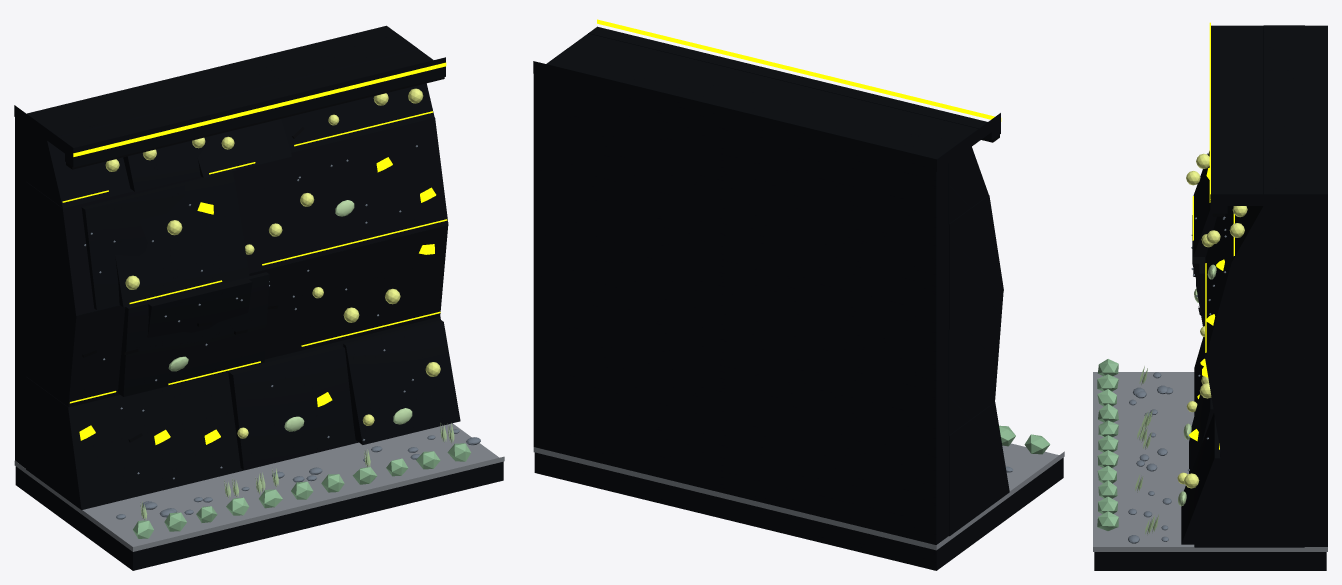
Rendered from tt_plinth_skirt_terrace_footed.glb.
3 views of the same model, side by side, from view 1: azimuth 30°, elevation 25°; view 2: azimuth 150°, elevation 25°; view 3: azimuth 270°, elevation 25° (orthographic). The views are drawn at different scales.
Visible parts, largest first — view 1: Course2_Facets, Course0_Facets, Course1_Facets, Course3_Facets, Cap_Course, Base_Mat, Footing, Skirt_Core, Moss_Edge, Tennis_Ball_Holds, Seam_Tape, Cap_Court_Line (+5 smaller); view 2: Skirt_Core, Cap_Course, Footing, Course3_Facets, Course0_Facets, Course1_Facets, Course2_Facets, Base_Mat, Cap_Court_Line; view 3: Cap_Course, Base_Mat, Course0_Facets, Course2_Facets, Course3_Facets, Course1_Facets, Skirt_Core, Footing, Moss_Edge, Tennis_Ball_Holds, River_Stones, Grass_Tufts (+4 smaller).
Part boxes in pixels (left/top/right/bottom): Course2_Facets: left=26, top=117, right=448, bottom=315; Course0_Facets: left=26, top=316, right=460, bottom=510; Course1_Facets: left=26, top=225, right=448, bottom=407; Course3_Facets: left=26, top=34, right=434, bottom=208; Cap_Course: left=14, top=25, right=445, bottom=167; Base_Mat: left=14, top=423, right=504, bottom=551; Footing: left=15, top=461, right=503, bottom=570; Skirt_Core: left=15, top=117, right=25, bottom=468; Moss_Edge: left=133, top=443, right=471, bottom=538; Tennis_Ball_Holds: left=105, top=88, right=440, bottom=438; Seam_Tape: left=62, top=111, right=447, bottom=403; Cap_Court_Line: left=73, top=62, right=446, bottom=156; Skirt_Core: left=533, top=73, right=948, bottom=544; Cap_Course: left=533, top=26, right=1000, bottom=171; Footing: left=534, top=452, right=1063, bottom=570; Course3_Facets: left=546, top=47, right=988, bottom=224; Course0_Facets: left=949, top=402, right=1009, bottom=536; Course1_Facets: left=948, top=291, right=1003, bottom=435; Course2_Facets: left=949, top=195, right=1003, bottom=329; Base_Mat: left=533, top=443, right=1064, bottom=550; Cap_Court_Line: left=597, top=19, right=1001, bottom=121; Cap_Course: left=1210, top=25, right=1327, bottom=213; Base_Mat: left=1093, top=372, right=1327, bottom=551; Course0_Facets: left=1181, top=337, right=1304, bottom=547; Course2_Facets: left=1193, top=151, right=1304, bottom=358; Course3_Facets: left=1232, top=25, right=1304, bottom=261; Course1_Facets: left=1192, top=215, right=1304, bottom=455; Skirt_Core: left=1304, top=206, right=1327, bottom=546; Footing: left=1094, top=552, right=1326, bottom=570; Moss_Edge: left=1097, top=359, right=1118, bottom=530; Tennis_Ball_Holds: left=1177, top=153, right=1247, bottom=488; River_Stones: left=1128, top=372, right=1173, bottom=543; Grass_Tufts: left=1135, top=366, right=1158, bottom=534.
Size of what is drawn, in the model's own units: 4 by 3.9 by 2.2.
Materials: 8 (3 with a texture image).
